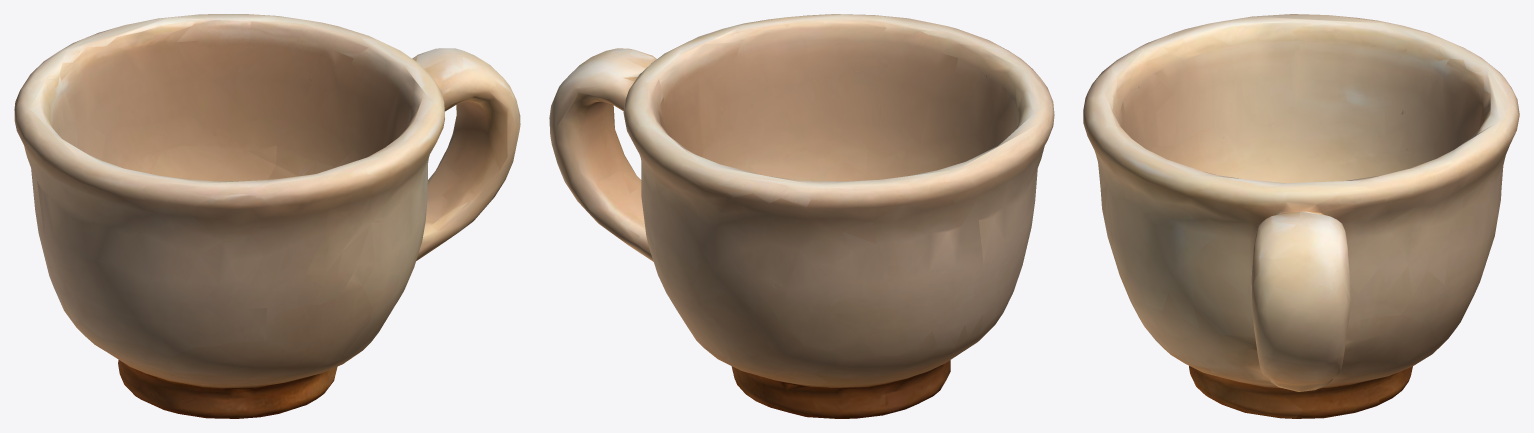
File: teacup.glb
The picture shows the model from 3 angles, left to right: view 1: azimuth 30°, elevation 25°; view 2: azimuth 150°, elevation 25°; view 3: azimuth 270°, elevation 25°; orthographic projection.
Visible parts, largest first — view 1: tripo_node_bf9705d1-5c94-4e3f-8d10-dc30423e52a9; view 2: tripo_node_bf9705d1-5c94-4e3f-8d10-dc30423e52a9; view 3: tripo_node_bf9705d1-5c94-4e3f-8d10-dc30423e52a9.
Boxes of the visible parts, x1,y1,x2,y2 form: tripo_node_bf9705d1-5c94-4e3f-8d10-dc30423e52a9: (14, 14, 520, 418); tripo_node_bf9705d1-5c94-4e3f-8d10-dc30423e52a9: (549, 14, 1054, 418); tripo_node_bf9705d1-5c94-4e3f-8d10-dc30423e52a9: (1083, 14, 1519, 418).
Size of the model in its own units: 0.1769 by 0.1 by 0.1435.
Materials: 1 (1 with a texture image).
